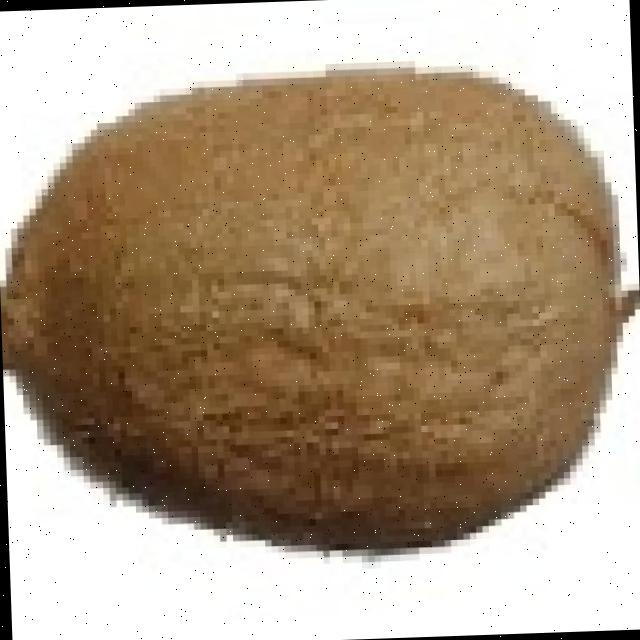kiwi: (11, 65, 639, 533)
